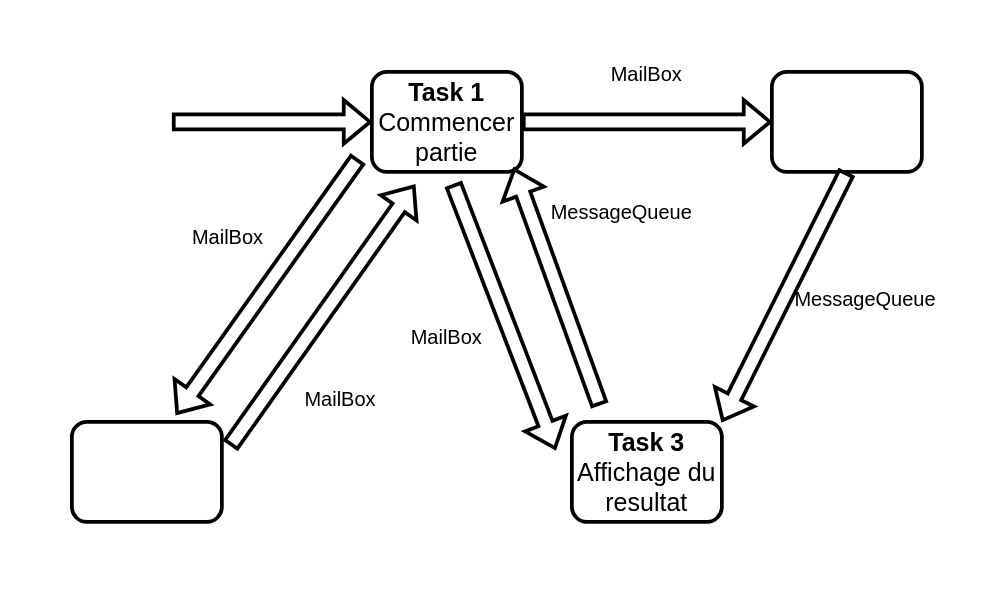
This 993x594 diagram has some shape labels left out. The centre of each missing label's shape, as x and y in pixels:
Task 2 Lancer play: (x=846, y=121)
Task 4 Affichage des stats: (x=146, y=471)
